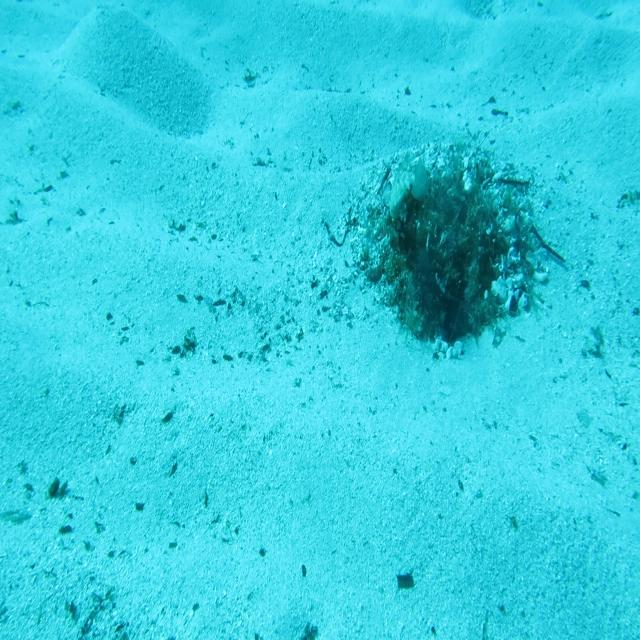NIP_IN: (380, 149, 431, 225)
core_nest: (421, 198, 474, 242)
nest: (344, 128, 559, 370)
